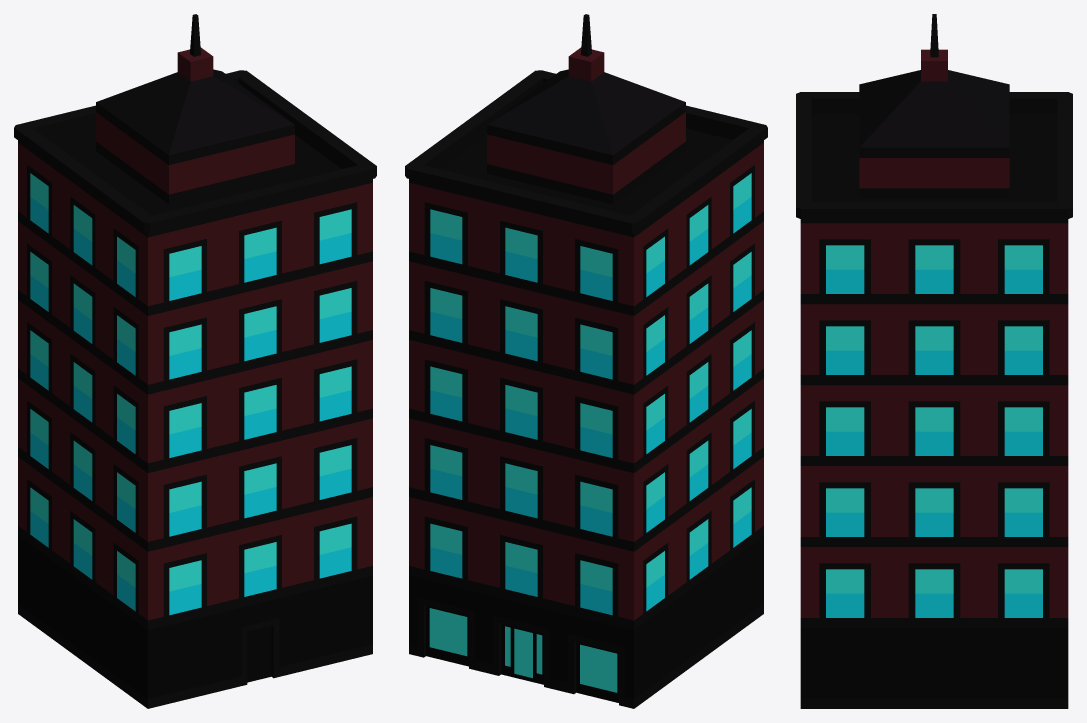
3 renders of one model, left to right at view 1: azimuth 30°, elevation 25°; view 2: azimuth 150°, elevation 25°; view 3: azimuth 270°, elevation 25°, orthographic. The views are drawn at different scales.
Parts seen in each view (by area): view 1: skyscraperE__defaultMat.001, skyscraperE_border.001, skyscraperE_door.001, skyscraperE_window.001, skyscraperE_trim.001, skyscraperE_roof.001; view 2: skyscraperE__defaultMat.001, skyscraperE_border.001, skyscraperE_door.001, skyscraperE_window.001, skyscraperE_trim.001, skyscraperE_roof.001; view 3: skyscraperE__defaultMat.001, skyscraperE_border.001, skyscraperE_door.001, skyscraperE_window.001, skyscraperE_trim.001, skyscraperE_roof.001.
Part boxes in pixels (x1=…): skyscraperE__defaultMat.001: x1=18, y1=47, x2=372, y2=620; skyscraperE_border.001: x1=14, y1=14, x2=376, y2=708; skyscraperE_door.001: x1=18, y1=128, x2=372, y2=698; skyscraperE_window.001: x1=30, y1=173, x2=351, y2=591; skyscraperE_trim.001: x1=30, y1=197, x2=351, y2=615; skyscraperE_roof.001: x1=96, y1=69, x2=294, y2=155; skyscraperE__defaultMat.001: x1=409, y1=47, x2=763, y2=620; skyscraperE_border.001: x1=405, y1=14, x2=767, y2=708; skyscraperE_door.001: x1=409, y1=128, x2=763, y2=702; skyscraperE_window.001: x1=429, y1=173, x2=751, y2=692; skyscraperE_trim.001: x1=430, y1=197, x2=751, y2=615; skyscraperE_roof.001: x1=487, y1=69, x2=685, y2=155; skyscraperE__defaultMat.001: x1=800, y1=49, x2=1068, y2=617; skyscraperE_border.001: x1=796, y1=14, x2=1072, y2=708; skyscraperE_door.001: x1=800, y1=114, x2=1068, y2=698; skyscraperE_window.001: x1=826, y1=245, x2=1042, y2=593; skyscraperE_trim.001: x1=826, y1=269, x2=1042, y2=617; skyscraperE_roof.001: x1=859, y1=70, x2=1009, y2=147.
Bounding box in the file's own units: 1.24 × 3.15 × 1.24.
